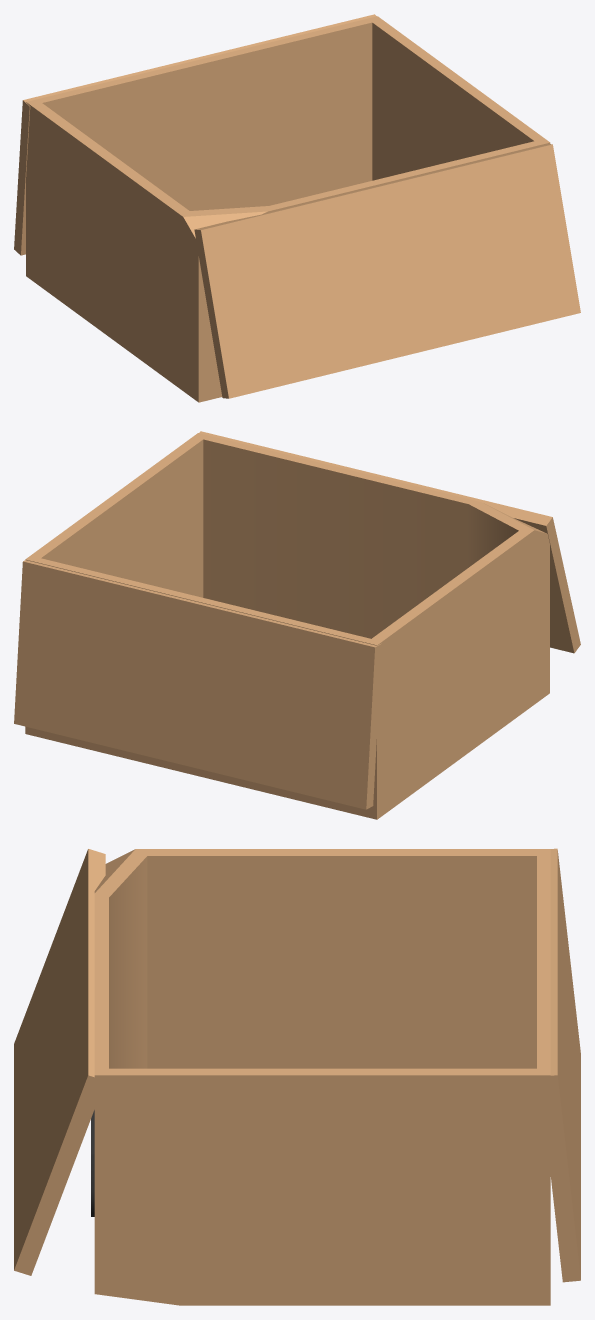
The model's file is SM_Box_Open_Lg.fbx.
3 renders of one model, top to bottom at view 1: azimuth 30°, elevation 25°; view 2: azimuth 150°, elevation 25°; view 3: azimuth 270°, elevation 25°, orthographic. The views are drawn at different scales.
Parts seen in each view (by area): view 1: Box_Open_Lg; view 2: Box_Open_Lg; view 3: Box_Open_Lg.
Boxes of the visible parts, x1,y1,x2,y2 form: Box_Open_Lg: [14, 14, 580, 402]; Box_Open_Lg: [14, 431, 580, 819]; Box_Open_Lg: [14, 848, 580, 1305].
Bounding box in the file's own units: 131 × 61.92 × 138.
